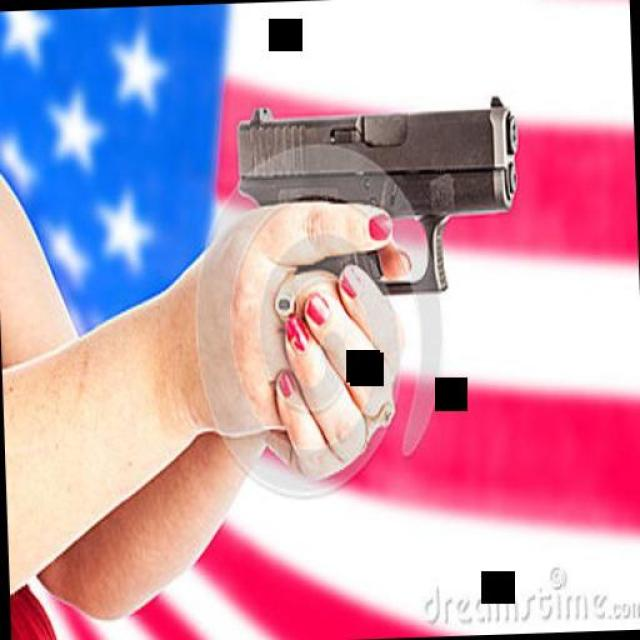gun: (231, 92, 524, 298)
